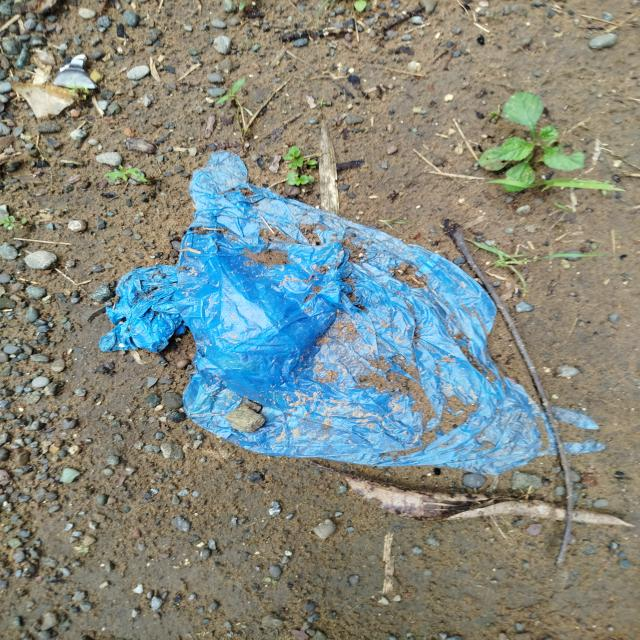residual: (105, 144, 615, 502)
